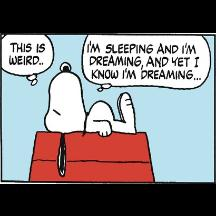snoopy: (44, 60, 136, 176)
